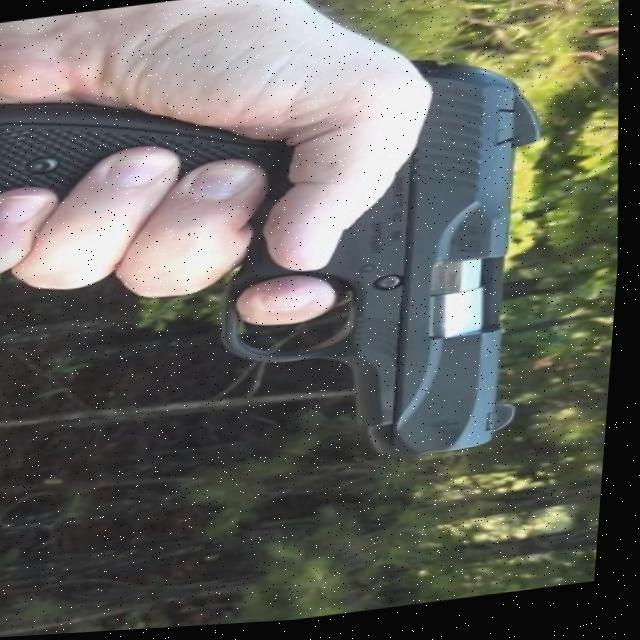pistol: (197, 47, 568, 486)
